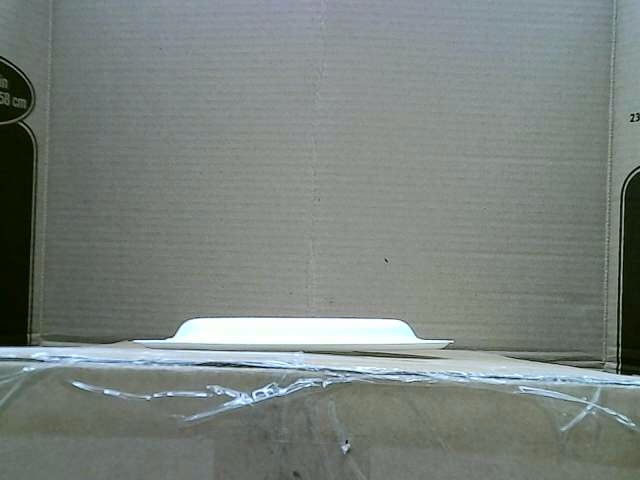Plate: (132, 316, 454, 351)
